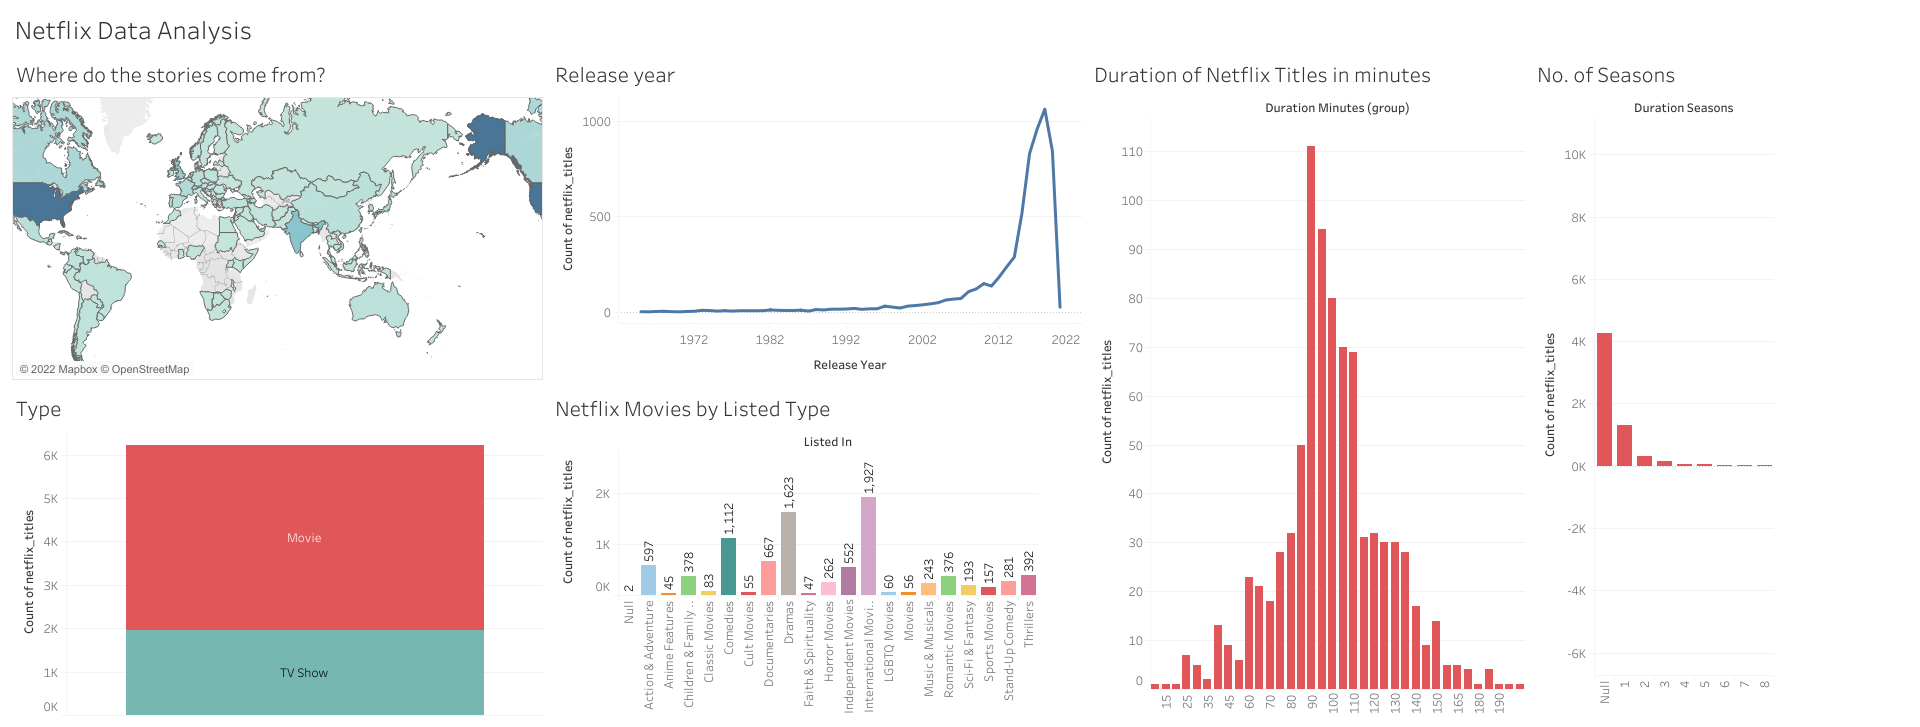

The page's visual inventory and layout, read from the dashboard file:
{"tool":"tableau","page":{"name":"Netflix Data Analysis","canvas":[1000,1000],"units":"permille","ordinal":0},"visuals":[{"type":"title","box":[6.5,15.8,987.1,82.7]},{"type":"worksheet","title":"Count of titles by countries","mark":"Automatic","box":[6.5,98.4,279.5,442.9]},{"type":"worksheet","title":"Release year","mark":"Automatic","rows":["netflix!titles_D345FC09344E47E59A7D0CCDE81402F2"],"cols":["release_year"],"box":[286,98.4,279.6,442.9]},{"type":"worksheet","title":"Duration","mark":"Automatic","rows":["netflix!titles_D345FC09344E47E59A7D0CCDE81402F2"],"box":[565.6,98.4,229.5,885.8]},{"type":"worksheet","title":"Seasons","mark":"Automatic","rows":["netflix!titles_D345FC09344E47E59A7D0CCDE81402F2"],"cols":["duration_seasons"],"box":[795,98.4,198.5,885.8]},{"type":"worksheet","title":"Type","mark":"Automatic","rows":["netflix!titles_D345FC09344E47E59A7D0CCDE81402F2"],"box":[6.5,541.3,279.5,442.9]},{"type":"worksheet","title":"Listed","mark":"Automatic","rows":["netflix!titles_D345FC09344E47E59A7D0CCDE81402F2"],"cols":["listed_in"],"box":[286,541.3,279.6,442.9]}]}

Visuals, with their boxes on the dashboard's canvas, which has no fixed pixel size, in thousandths of its width and height (x1, y1, x2, y2). These are canvas units, not pixel positions in the 1920x727 screenshot, which may show the page scaled, cropped or inside an application window:
title: <bbox>6, 16, 994, 98</bbox>
"Count of titles by countries" worksheet: <bbox>6, 98, 286, 541</bbox>
"Release year" worksheet: <bbox>286, 98, 566, 541</bbox>
"Duration" worksheet: <bbox>566, 98, 795, 984</bbox>
"Seasons" worksheet: <bbox>795, 98, 994, 984</bbox>
"Type" worksheet: <bbox>6, 541, 286, 984</bbox>
"Listed" worksheet: <bbox>286, 541, 566, 984</bbox>
